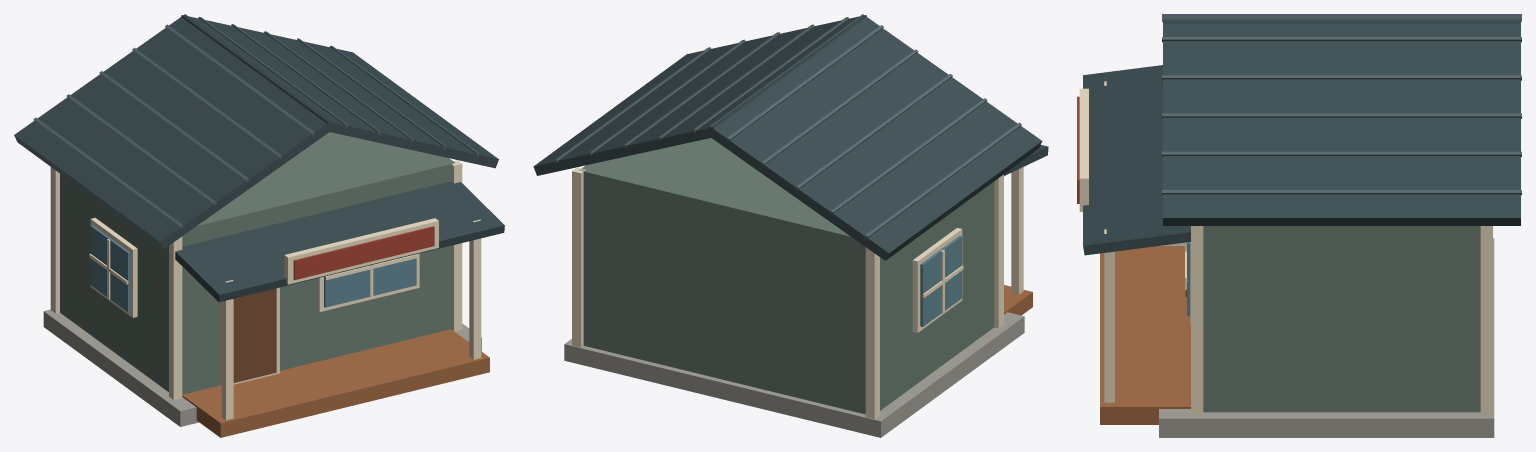
File: yard_office.glb
3 views of the same model, side by side, from view 1: azimuth 30°, elevation 25°; view 2: azimuth 150°, elevation 25°; view 3: azimuth 270°, elevation 25° (orthographic). The views are drawn at different scales.
Parts seen in each view (by area): view 1: yard_office; view 2: yard_office; view 3: yard_office.
Boxes of the visible parts, x1,y1,x2,y2 form: yard_office: [14, 14, 504, 437]; yard_office: [533, 14, 1048, 437]; yard_office: [1077, 14, 1521, 437].
Size of the model in its own units: 6.29 by 4.75 by 5.84.
